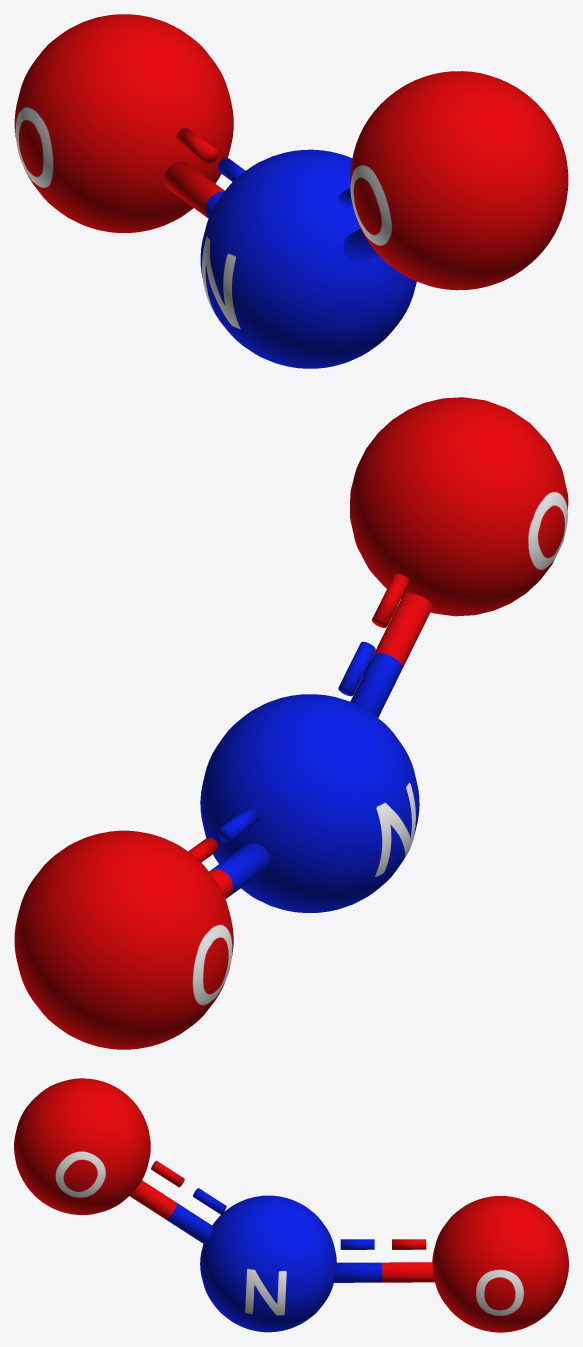
The model's file is dioxido_nitrogenio_2.glb.
The picture shows the model from 3 angles, top to bottom: view 1: azimuth 30°, elevation 25°; view 2: azimuth 150°, elevation 25°; view 3: azimuth 270°, elevation 25°; orthographic projection. The views are drawn at different scales.
Visible parts, largest first — view 1: Mol molde 27.02; view 2: Mol molde 27.02; view 3: Mol molde 27.02.
Boxes of the visible parts, x1,y1,x2,y2 form: Mol molde 27.02: (14, 14, 568, 368); Mol molde 27.02: (14, 397, 568, 1049); Mol molde 27.02: (14, 1078, 568, 1332).
Bounding box in the file's own units: 0.3054 × 0.5947 × 1.24.
Materials: 2 (2 with a texture image).
